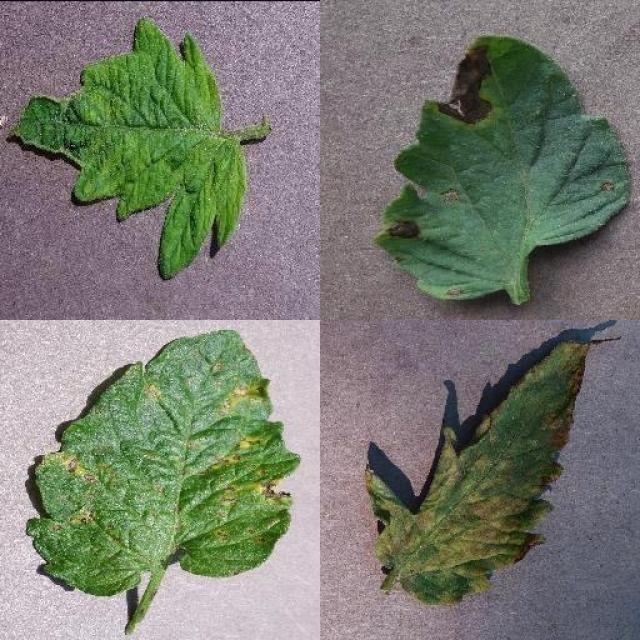Early Blight: (377, 32, 635, 304)
Septoria: (25, 328, 301, 598)
